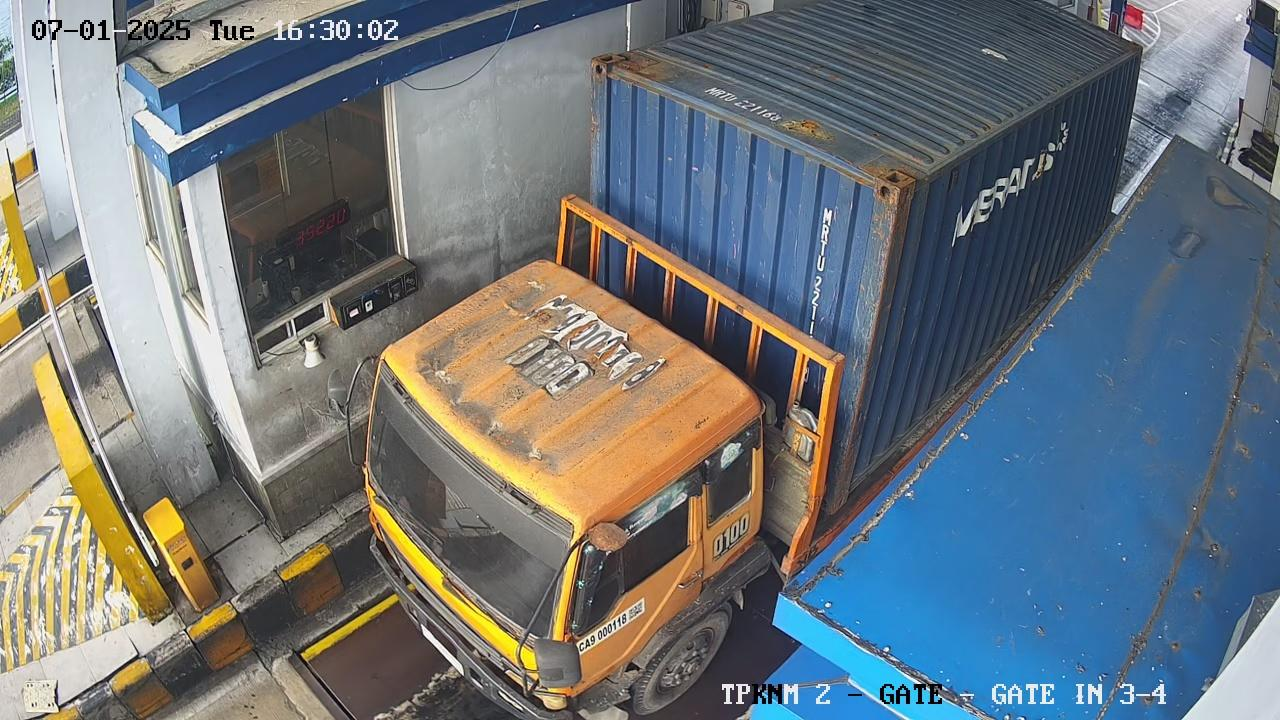Container_ID: (690, 66, 819, 143)
Container_ID_Vertikal: (794, 200, 846, 345)
truck_id: (493, 326, 621, 423), (704, 503, 763, 575)
